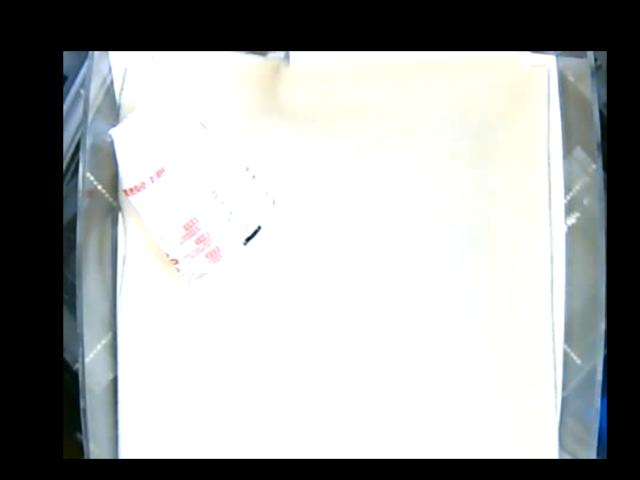Bottle: (107, 90, 273, 282)
